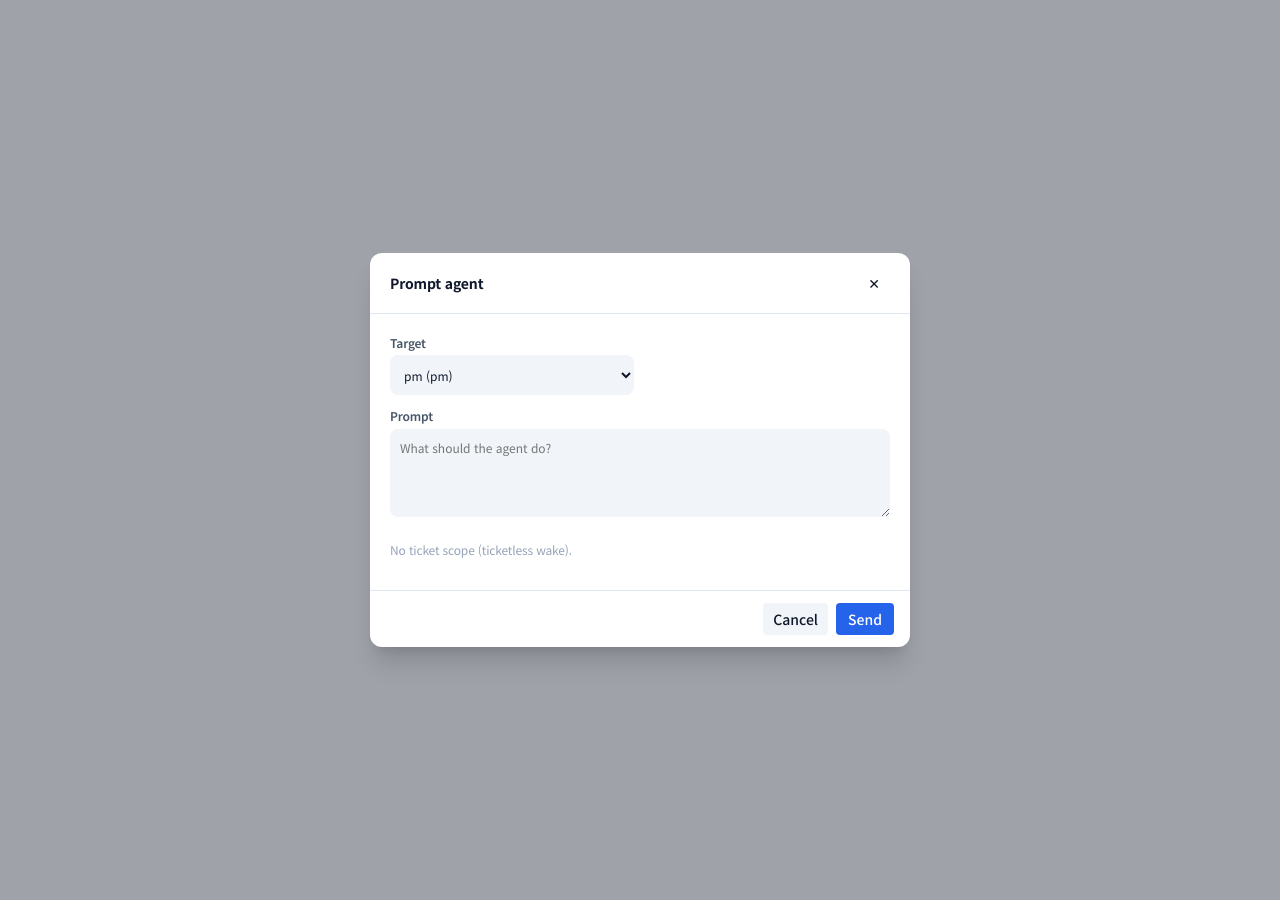
AgentPromptDialog › shows 4xx error message
Select "pm (pm)" in the dropdown labelled "Target": (512, 375) x1=390 y1=355 x2=634 y2=395
In the text box labelled "Prompt": (640, 473) x1=390 y1=429 x2=890 y2=517, type "hi"
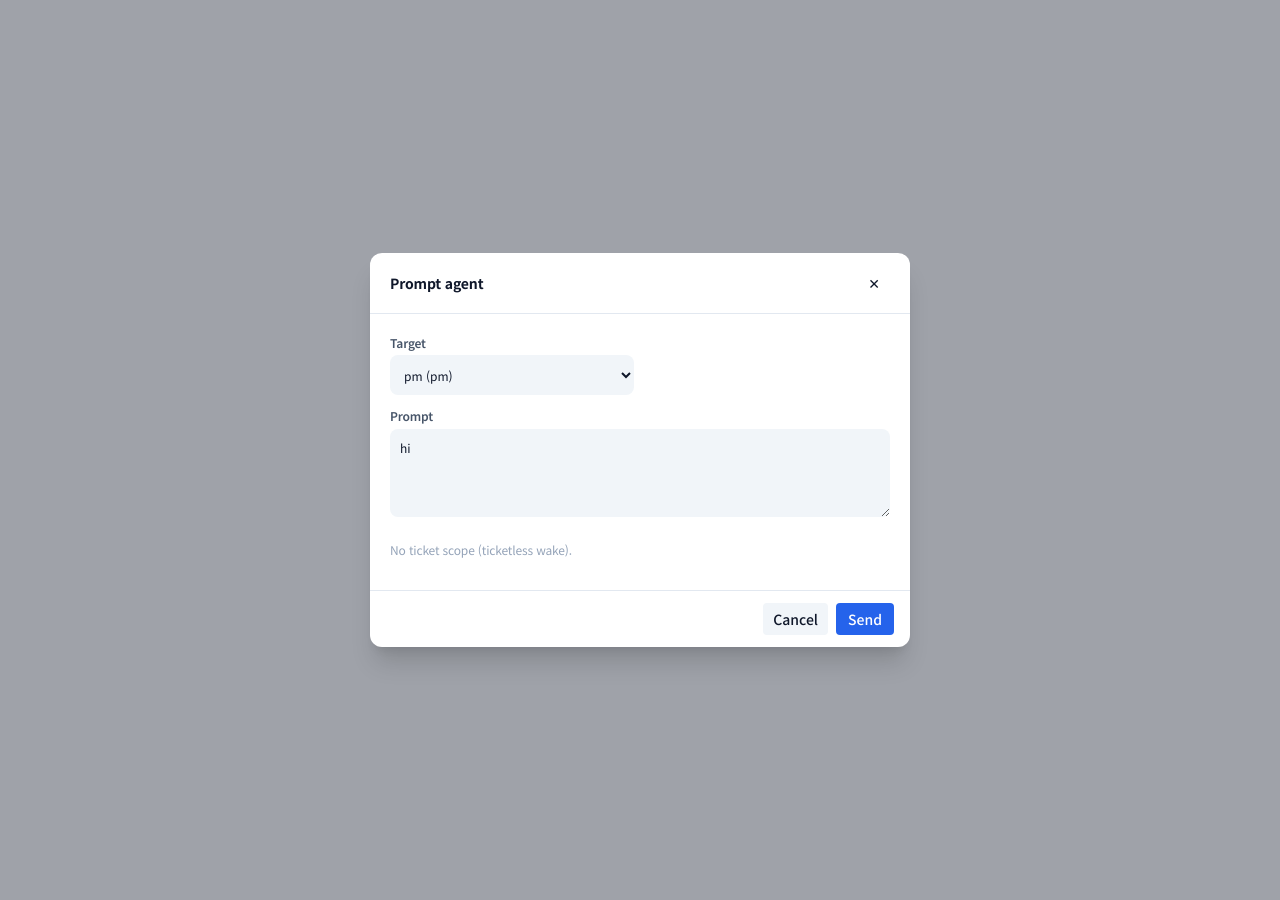
Submit the form named "agent prompt", box x1=370 y1=253 x2=910 y2=647
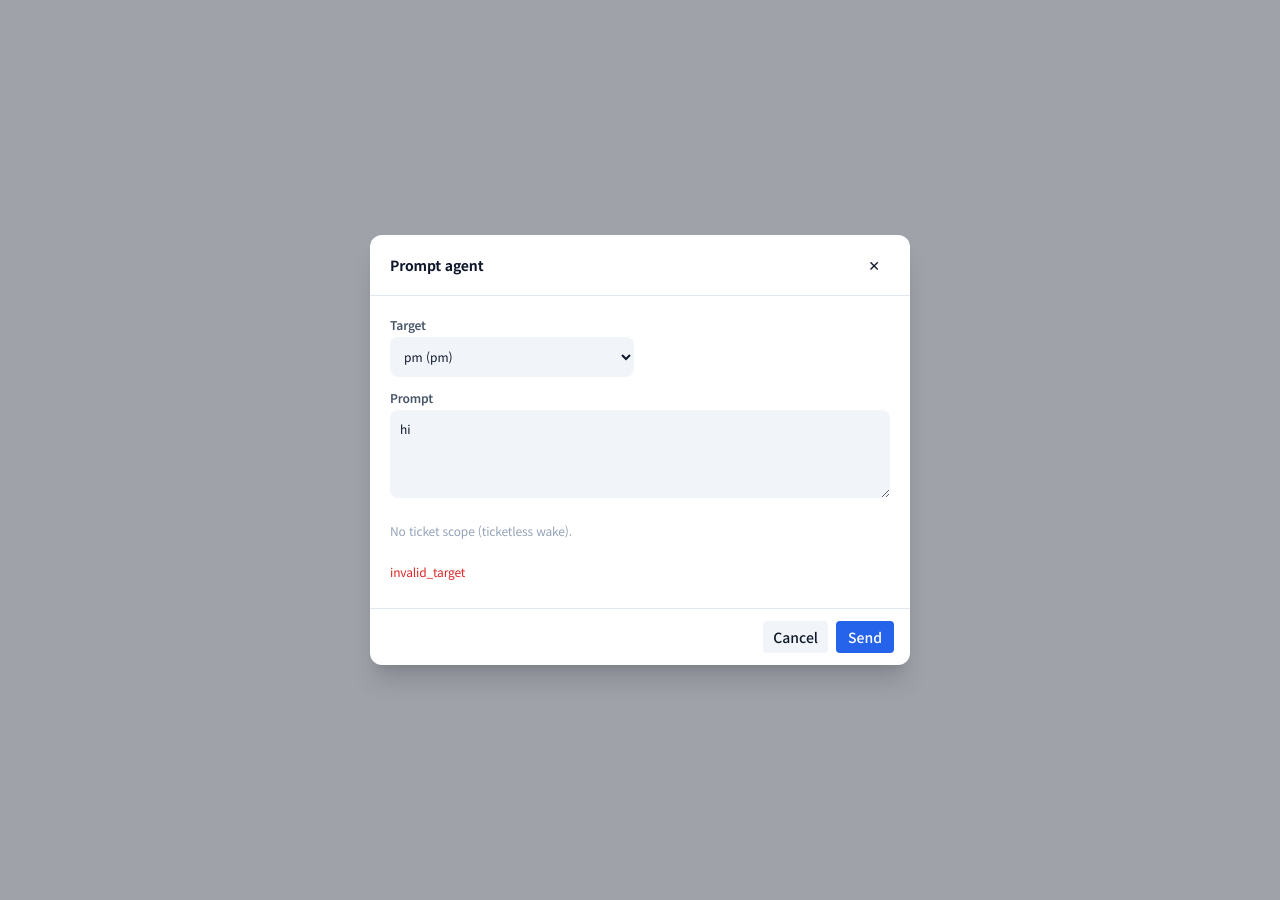
Result: the text "invalid_target" is shown at x1=390 y1=563 x2=465 y2=580
